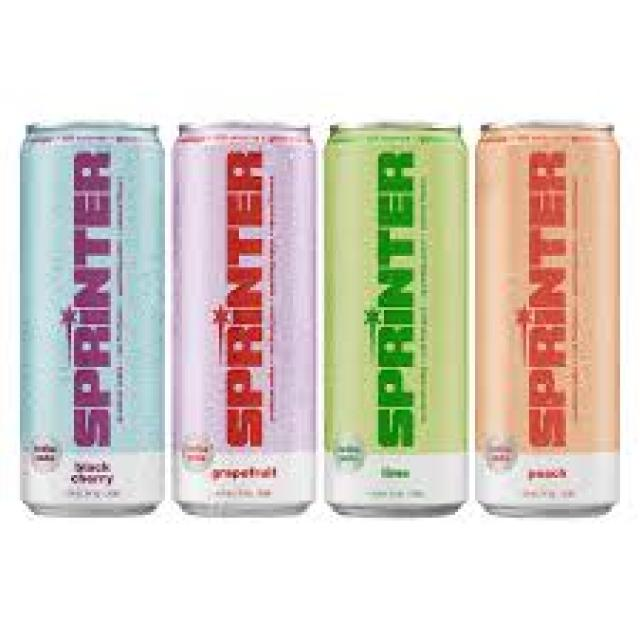Cans: (8, 113, 170, 520), (162, 108, 319, 523), (466, 113, 626, 520), (319, 111, 475, 515)
